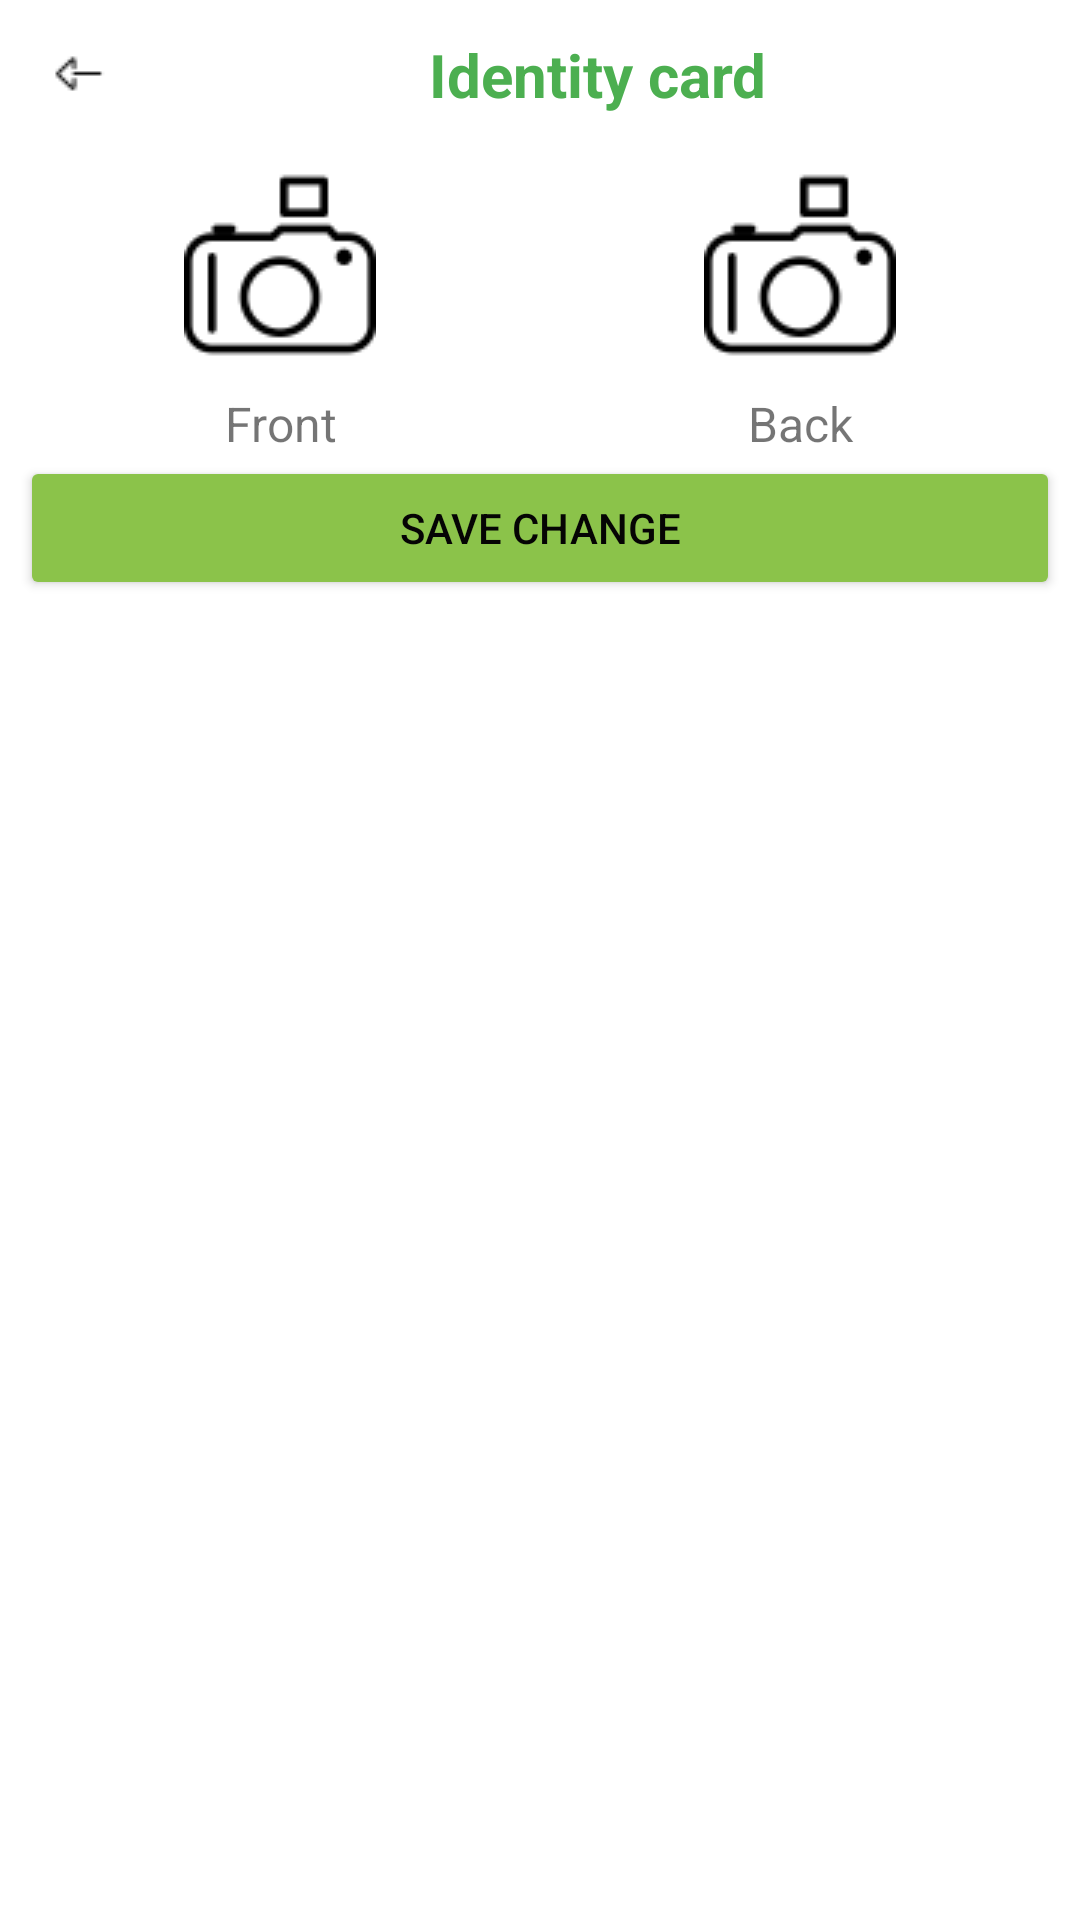

Named icons in this screenshot (1080px×1920px) and their centers, (x,y):
back: (78,73)
camera: (280,265), (800,265)
